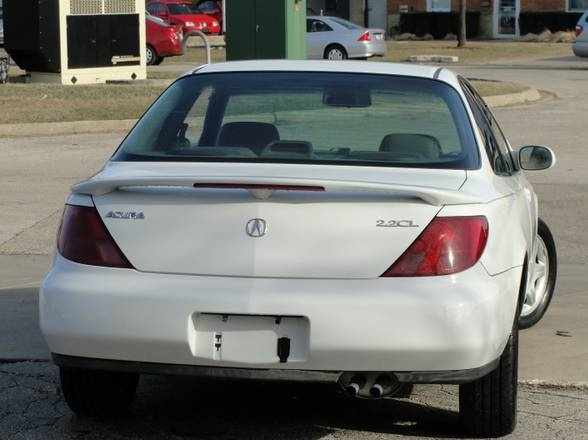acura: (23, 58, 566, 435)
